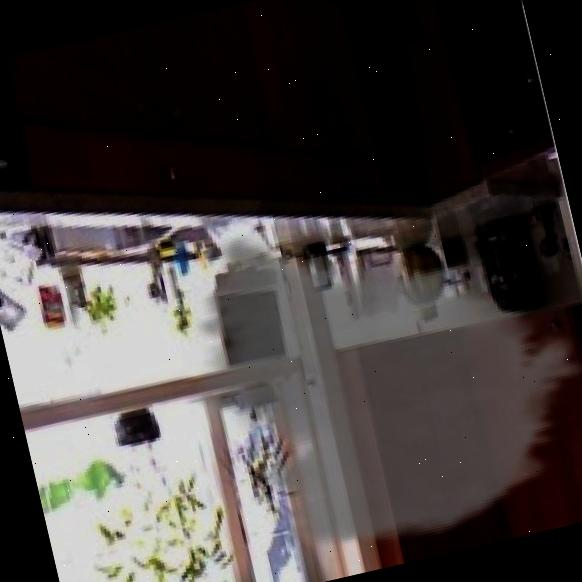smoke: (151, 163, 582, 582)
